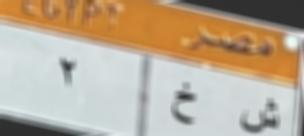2: (49, 54, 86, 95)
khaa: (162, 79, 202, 133)
sheen: (234, 94, 284, 136)
